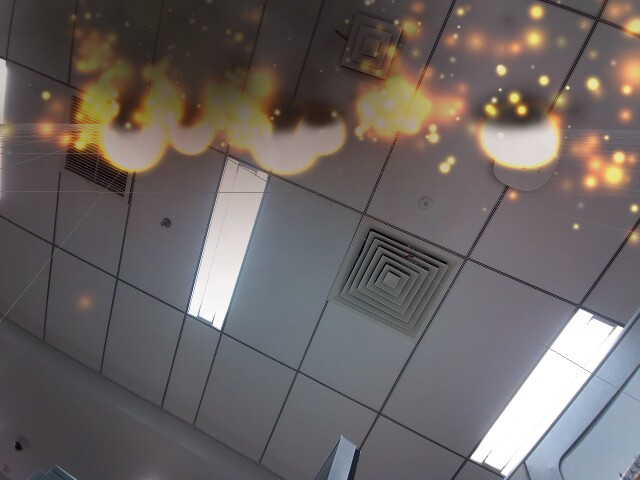fire: (480, 99, 563, 170), (97, 105, 169, 178), (250, 107, 321, 174), (297, 108, 350, 160), (171, 106, 217, 156)
